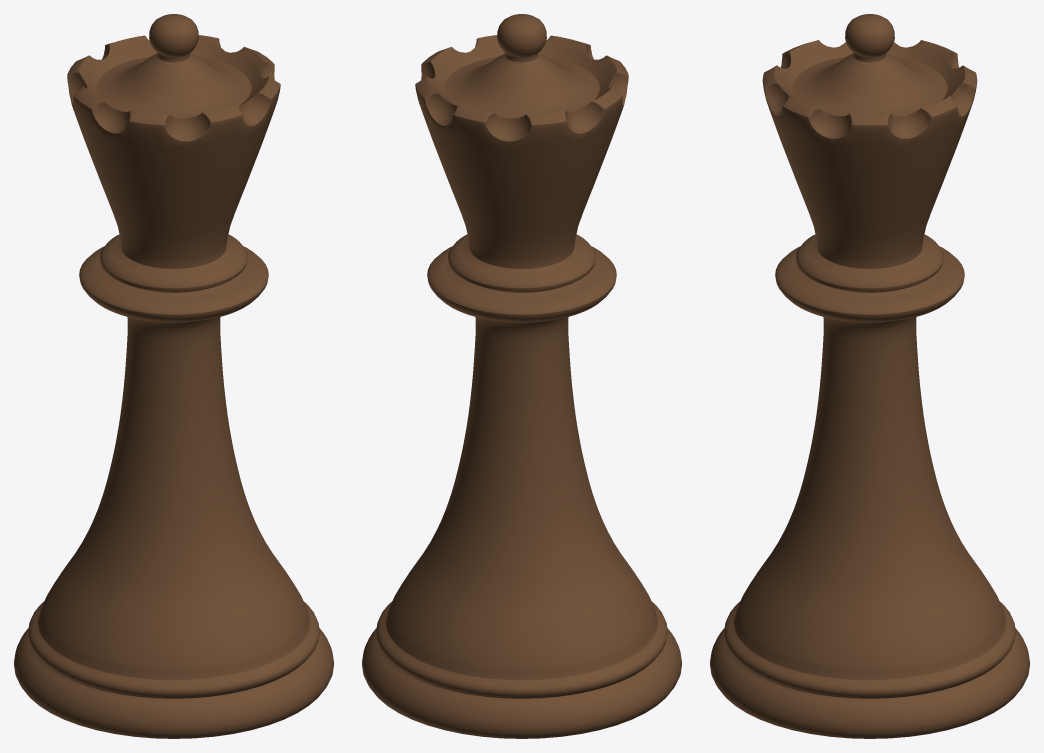
Rendered from black-queen.glb.
3 views of the same model, side by side, from view 1: azimuth 30°, elevation 25°; view 2: azimuth 150°, elevation 25°; view 3: azimuth 270°, elevation 25° (orthographic).
Visible parts, largest first — view 1: black-queen.001; view 2: black-queen.001; view 3: black-queen.001.
Part boxes in pixels (left/top/right/bottom): black-queen.001: left=14, top=14, right=333, bottom=738; black-queen.001: left=362, top=14, right=681, bottom=738; black-queen.001: left=710, top=14, right=1029, bottom=738.
Size of the model in its own units: 0.72 by 1.63 by 0.72.
